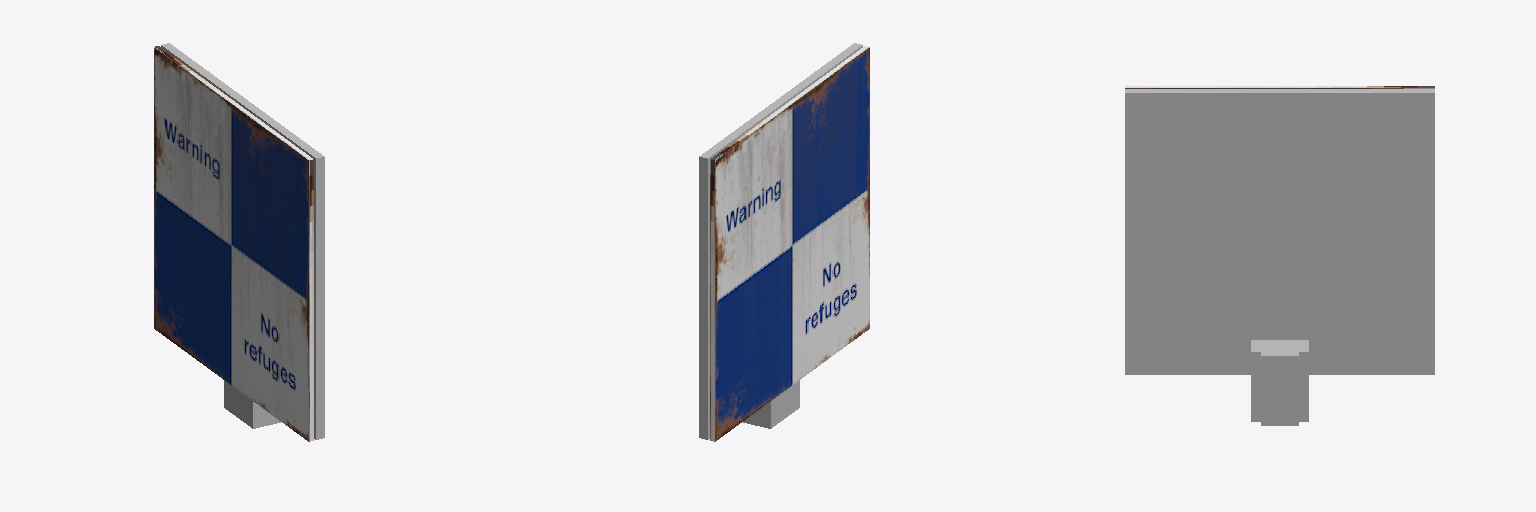
3 renders of one model, left to right at view 1: azimuth 30°, elevation 25°; view 2: azimuth 150°, elevation 25°; view 3: azimuth 270°, elevation 25°, orthographic.
Parts seen in each view (by area): view 1: cube; view 2: cube; view 3: cube.
Part boxes in pixels (bbox=[...]): cube: bbox=[154, 43, 324, 441]; cube: bbox=[699, 43, 869, 441]; cube: bbox=[1125, 86, 1434, 425].
Bounding box in the file's own units: 0.0922 × 0.5625 × 0.5.
Materials: 2 (1 with a texture image).